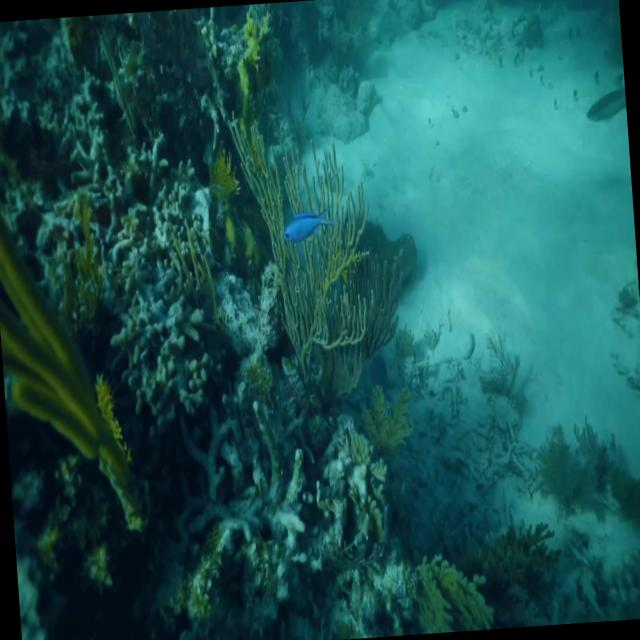fish: (278, 208, 336, 252)
